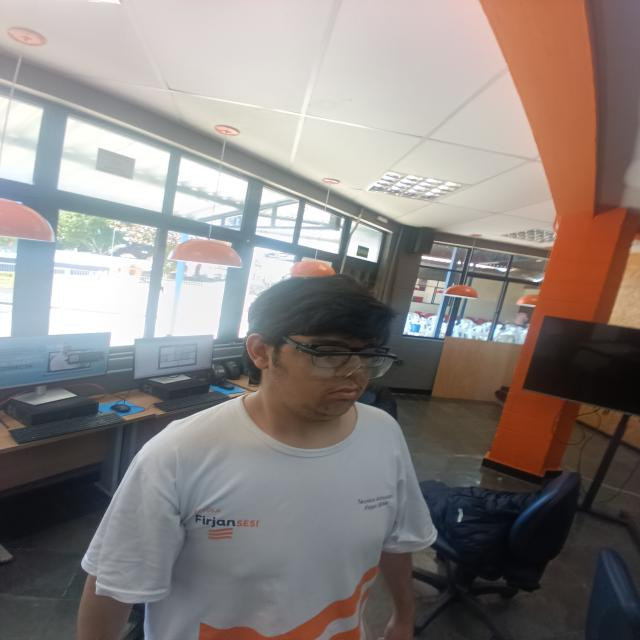oculos-epi: (281, 338, 396, 380)
